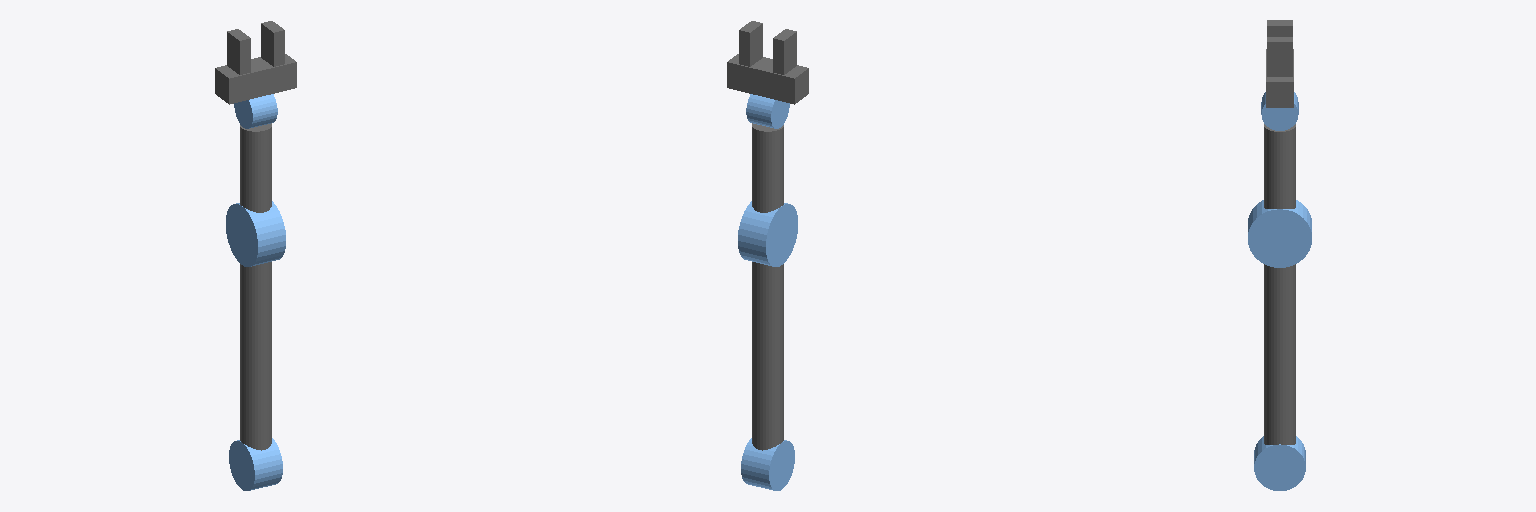
The robot description file, URDF, robot "rav_arm":
<?xml version="1.0" ?>
<!-- =================================================================================== -->
<!-- |    This document was autogenerated by xacro from /home/nathan/rav/robotics_ws/src/rav_arm_moveit_config/config/rav_arm.urdf.xacro | -->
<!-- |    EDITING THIS FILE BY HAND IS NOT RECOMMENDED                                 | -->
<!-- =================================================================================== -->
<robot name="rav_arm">
  <!-- Link raiz fixo — nome diferente de "world" para evitar conflito com o virtual_joint do SRDF -->
  <link name="arm_world"/>
  <!-- Original -->
  <!-- <xacro:property name="length_1" value="0.15"/>
    <xacro:property name="length_2" value="0.4"/>
    <xacro:property name="length_3" value="0.5"/>
    <xacro:property name="length_4" value="0.3"/>
    <xacro:property name="length_5" value="0.15"/>
    <xacro:property name="length_6" value="0.07"/> -->
  <material name="Black">
    <color rgba="0.0 0.0 0.0 1.0"/>
  </material>
  <material name="Red">
    <color rgba="0.8 0.0 0.0 1.0"/>
  </material>
  <material name="Blue">
    <color rgba="0.0 0.0 1.0 1.0"/>
  </material>
  <material name="LightBlue">
    <color rgba="0.589 0.793 1.0 1.0"/>
  </material>
  <material name="Grey">
    <color rgba="0.5 0.5 0.5 1.0"/>
  </material>
  <material name="White">
    <color rgba="1.0 1.0 1.0 1.0"/>
  </material>
  <!-- Junta de montagem do braço no RAV -->
  <joint name="arm_mount_joint" type="fixed">
    <origin rpy="0 0 0" xyz="0 0 0"/>
    <parent link="arm_world"/>
    <child link="arm_base_link"/>
  </joint>
  <link name="arm_base_link">
    <inertial>
      <origin rpy="0 0 0" xyz="0 0 0.025"/>
      <mass value="0.75"/>
      <inertia ixx="0.0005562500000000002" ixy="0.0" ixz="0.0" iyy="0.0005562500000000002" iyz="0.0" izz="0.0008000000000000004"/>
    </inertial>
    <visual>
      <origin rpy="0 1.570795 0" xyz="0 0 0.04000000000000001"/>
      <geometry>
        <cylinder length="0.05" radius="0.04000000000000001"/>
      </geometry>
      <material name="LightBlue"/>
    </visual>
    <collision>
      <origin rpy="0 1.570795 0" xyz="0 0 0.04000000000000001"/>
      <geometry>
        <cylinder length="0.05" radius="0.04000000000000001"/>
      </geometry>
    </collision>
  </link>
  <joint name="arm_joint_2" type="revolute">
    <origin rpy="0 0 0" xyz="0 0 0.04000000000000001"/>
    <parent link="arm_base_link"/>
    <child link="arm_link_2"/>
    <axis xyz="1 0 0"/>
    <limit effort="300.0" lower="-0.3" upper="1.9787" velocity="1.0"/>
  </joint>
  <link name="arm_link_2">
    <inertial>
      <origin rpy="0 0 0" xyz="0 0 0.2"/>
      <mass value="3"/>
      <inertia ixx="0.04062500000000001" ixy="0.0" ixz="0.0" iyy="0.04062500000000001" iyz="0.0" izz="0.0012500000000000002"/>
    </inertial>
    <visual>
      <origin rpy="0 0 0" xyz="0 0 0.2"/>
      <geometry>
        <cylinder length="0.4" radius="0.025"/>
      </geometry>
      <material name="Grey"/>
    </visual>
    <collision>
      <origin rpy="0 0 0" xyz="0 0 0.2"/>
      <geometry>
        <cylinder length="0.4" radius="0.025"/>
      </geometry>
    </collision>
  </link>
  <gazebo reference="arm_link_2">
    <visual>
      <material>
        <ambient>0.5 0.5 0.5 1.0</ambient>
        <diffuse>0.56666695 0.56666695 0.56666695 1.0</diffuse>
        <specular>0.6000003 0.6000003 0.6000003 1.0</specular>
      </material>
    </visual>
  </gazebo>
  <link name="arm_link_2_endlink">
    <inertial>
      <origin rpy="0 0 0" xyz="0 0 0.025"/>
      <mass value="0.75"/>
      <inertia ixx="0.00031250000000000006" ixy="0.0" ixz="0.0" iyy="0.00031250000000000006" iyz="0.0" izz="0.00031250000000000006"/>
    </inertial>
    <visual>
      <origin rpy="0 0 0" xyz="0 0 0.025"/>
      <geometry>
        <cylinder length="0.05" radius="0.05"/>
      </geometry>
      <material name="LightBlue"/>
    </visual>
    <collision>
      <origin rpy="0 0 0" xyz="0 0 0.025"/>
      <geometry>
        <cylinder length="0.05" radius="0.05"/>
      </geometry>
    </collision>
  </link>
  <joint name="arm_link_2_endjoint" type="fixed">
    <origin rpy="0 1.570795 0" xyz="-0.025 0 0.39"/>
    <parent link="arm_link_2"/>
    <child link="arm_link_2_endlink"/>
  </joint>
  <gazebo reference="arm_link_2_endjoint">
    <disableFixedJointLumping>true</disableFixedJointLumping>
    <preserveFixedJoint>true</preserveFixedJoint>
  </gazebo>
  <joint name="arm_joint_3" type="revolute">
    <origin rpy="0 0 0" xyz="0 0 0.4"/>
    <parent link="arm_link_2"/>
    <child link="arm_link_3"/>
    <axis xyz="1 0 0"/>
    <limit effort="300.0" lower="0.0" upper="2.3952" velocity="1.0"/>
  </joint>
  <link name="arm_link_3">
    <inertial>
      <origin rpy="0 0 0" xyz="0 0 0.1"/>
      <mass value="3"/>
      <inertia ixx="0.010625000000000002" ixy="0.0" ixz="0.0" iyy="0.010625000000000002" iyz="0.0" izz="0.0012500000000000002"/>
    </inertial>
    <visual>
      <origin rpy="0 0 0" xyz="0 0 0.0857"/>
      <geometry>
        <cylinder length="0.1714" radius="0.025"/>
      </geometry>
      <material name="Grey"/>
    </visual>
    <collision>
      <origin rpy="0 0 0" xyz="0 0 0.0857"/>
      <geometry>
        <cylinder length="0.1714" radius="0.025"/>
      </geometry>
    </collision>
  </link>
  <gazebo reference="arm_link_3">
    <visual>
      <material>
        <ambient>0.5 0.5 0.5 1.0</ambient>
        <diffuse>0.56666695 0.56666695 0.56666695 1.0</diffuse>
        <specular>0.6000003 0.6000003 0.6000003 1.0</specular>
      </material>
    </visual>
  </gazebo>
  <joint name="arm_joint_4" type="revolute">
    <origin rpy="0 0 0" xyz="0 0 0.2"/>
    <parent link="arm_link_3"/>
    <child link="arm_link_4"/>
    <axis xyz="1 0 0"/>
    <limit effort="300.0" lower="-1" upper="1.5" velocity="1.0"/>
  </joint>
  <link name="arm_link_4">
    <inertial>
      <origin rpy="0 0 0" xyz="0 0 0.06"/>
      <mass value="1"/>
      <inertia ixx="0.0013613333333333333" ixy="0.0" ixz="0.0" iyy="0.0013613333333333333" iyz="0.0" izz="0.00032266666666666663"/>
    </inertial>
    <!-- Cilindro da junta 4 -->
    <visual>
      <origin rpy="0 1.570795 0" xyz="0 0 0"/>
      <geometry>
        <cylinder length="0.044" radius="0.0286"/>
      </geometry>
      <material name="LightBlue"/>
    </visual>
    <collision>
      <origin rpy="0 1.570795 0" xyz="0 0 0"/>
      <geometry>
        <cylinder length="0.044" radius="0.0286"/>
      </geometry>
    </collision>
    <!-- Retângulo apoiado no limite superior do cilindro -->
    <visual>
      <origin rpy="0 1.570795 0" xyz="0 0 0.05059999999999999"/>
      <geometry>
        <box size="0.044 0.044 0.12"/>
      </geometry>
      <material name="Grey"/>
    </visual>
    <collision>
      <origin rpy="0 1.570795 0" xyz="0 0 0.05059999999999999"/>
      <geometry>
        <box size="0.044 0.044 0.12"/>
      </geometry>
    </collision>
  </link>
  <joint name="arm_gripper_joint_1" type="prismatic">
    <origin rpy="0 0 0" xyz="0 0 0.0856"/>
    <parent link="arm_link_4"/>
    <child link="arm_gripper_link_1"/>
    <axis xyz="1 0 0"/>
    <limit effort="100.0" lower="0.01" upper="0.05" velocity="1.0"/>
  </joint>
  <joint name="arm_gripper_joint_2" type="prismatic">
    <origin rpy="0 0 0" xyz="0 0 0.0856"/>
    <parent link="arm_link_4"/>
    <child link="arm_gripper_link_2"/>
    <axis xyz="1 0 0"/>
    <limit effort="100.0" lower="-0.05" upper="-0.01" velocity="1.0"/>
  
    <mimic joint="arm_gripper_joint_1" multiplier="-1.0" offset="0.0"/>
  </joint>
  <joint name="arm_gripper_frame_joint" type="fixed">
    <origin rpy="0 0 0" xyz="0 0 0.1206"/>
    <parent link="arm_link_4"/>
    <child link="arm_gripper_frame_cp"/>
  </joint>
  <link name="arm_gripper_link_1">
    <inertial>
      <origin rpy="0 0 0" xyz="0 0 0.035"/>
      <mass value="0.2"/>
      <inertia ixx="0.00010833333333333334" ixy="0.0" ixz="0.0" iyy="0.00010833333333333334" iyz="0.0" izz="5.333333333333333e-05"/>
    </inertial>
    <visual>
      <origin rpy="0 0 0" xyz="0 0 0.01"/>
      <geometry>
        <box size="0.02 0.04 0.07"/>
      </geometry>
      <material name="Grey"/>
    </visual>
    <collision>
      <origin rpy="0 0 0" xyz="0 0 0.01"/>
      <geometry>
        <box size="0.02 0.02 0.07"/>
      </geometry>
    </collision>
  </link>
  <gazebo reference="arm_gripper_link_1">
    <visual>
      <material>
        <ambient>0.5 0.5 0.5 1.0</ambient>
        <diffuse>0.56666695 0.56666695 0.56666695 1.0</diffuse>
        <specular>0.6000003 0.6000003 0.6000003 1.0</specular>
      </material>
    </visual>
  </gazebo>
  <link name="arm_gripper_link_2">
    <inertial>
      <origin rpy="0 0 0" xyz="0 0 0.035"/>
      <mass value="0.2"/>
      <inertia ixx="0.00010833333333333334" ixy="0.0" ixz="0.0" iyy="0.00010833333333333334" iyz="0.0" izz="5.333333333333333e-05"/>
    </inertial>
    <visual>
      <origin rpy="0 0 0" xyz="0 0 0.01"/>
      <geometry>
        <box size="0.02 0.04 0.07"/>
      </geometry>
      <material name="Grey"/>
    </visual>
    <collision>
      <origin rpy="0 0 0" xyz="0 0 0.01"/>
      <geometry>
        <box size="0.02 0.02 0.07"/>
      </geometry>
    </collision>
  </link>
  <gazebo reference="arm_gripper_link_2">
    <visual>
      <material>
        <ambient>0.5 0.5 0.5 1.0</ambient>
        <diffuse>0.56666695 0.56666695 0.56666695 1.0</diffuse>
        <specular>0.6000003 0.6000003 0.6000003 1.0</specular>
      </material>
    </visual>
  </gazebo>
  <link name="arm_gripper_frame_cp">
    <inertial>
      <origin rpy="0 0 0" xyz="0 0 0.0005"/>
      <mass value="0.001"/>
      <inertia ixx="4.166666666666666e-10" ixy="0.0" ixz="0.0" iyy="4.166666666666666e-10" iyz="0.0" izz="6.666666666666666e-10"/>
    </inertial>
    <visual>
      <origin rpy="0 0 0" xyz="0 0 0"/>
      <geometry>
        <box size="0.001 0.001 0.001"/>
      </geometry>
      <material name="Grey"/>
    </visual>
    <collision>
      <origin rpy="0 0 0" xyz="0 0 0"/>
      <geometry>
        <box size="0.001 0.001 0.001"/>
      </geometry>
    </collision>
  </link>
</robot>

--- Facts derived from the render (not from the file) ---
3 views of the same robot in one strip: view 1: azimuth 30°, elevation 25°; view 2: azimuth 150°, elevation 25°; view 3: azimuth 270°, elevation 25° (orthographic).
Model rav_arm with 9 links and 8 joints (3 revolute, 2 prismatic, 3 fixed), rooted at arm_world, posed joints at zero except 2 at the middle of their limits (arm_gripper_joint_1 = 0.03, arm_gripper_joint_2 = -0.03).
Visible links, largest first — view 1: arm_link_2, arm_link_4, arm_link_2_endlink, arm_link_3, arm_base_link, arm_gripper_link_2, arm_gripper_link_1; view 2: arm_link_2, arm_link_4, arm_link_2_endlink, arm_link_3, arm_base_link, arm_gripper_link_2, arm_gripper_link_1; view 3: arm_link_2, arm_link_2_endlink, arm_link_3, arm_base_link, arm_link_4, arm_gripper_link_1.
Link boxes in pixels (<box>): arm_link_2: <box>240,262,271,450</box>; arm_link_4: <box>215,54,296,128</box>; arm_link_2_endlink: <box>226,201,285,266</box>; arm_link_3: <box>240,123,271,212</box>; arm_base_link: <box>229,438,282,490</box>; arm_gripper_link_2: <box>227,29,250,74</box>; arm_gripper_link_1: <box>261,21,284,66</box>; arm_link_2: <box>752,262,783,450</box>; arm_link_4: <box>727,54,808,128</box>; arm_link_2_endlink: <box>738,201,797,266</box>; arm_link_3: <box>752,123,783,212</box>; arm_base_link: <box>741,438,794,490</box>; arm_gripper_link_2: <box>773,29,796,74</box>; arm_gripper_link_1: <box>739,21,762,66</box>; arm_link_2: <box>1264,264,1295,444</box>; arm_link_2_endlink: <box>1248,200,1311,267</box>; arm_link_3: <box>1264,124,1295,208</box>; arm_base_link: <box>1254,436,1305,490</box>; arm_link_4: <box>1261,49,1298,130</box>; arm_gripper_link_1: <box>1267,37,1292,76</box>.
Size in the robot's own frame: 0.12 by 0.1 by 0.7706 metres.
Geometry: primitives only (box / cylinder / sphere), no mesh files.
